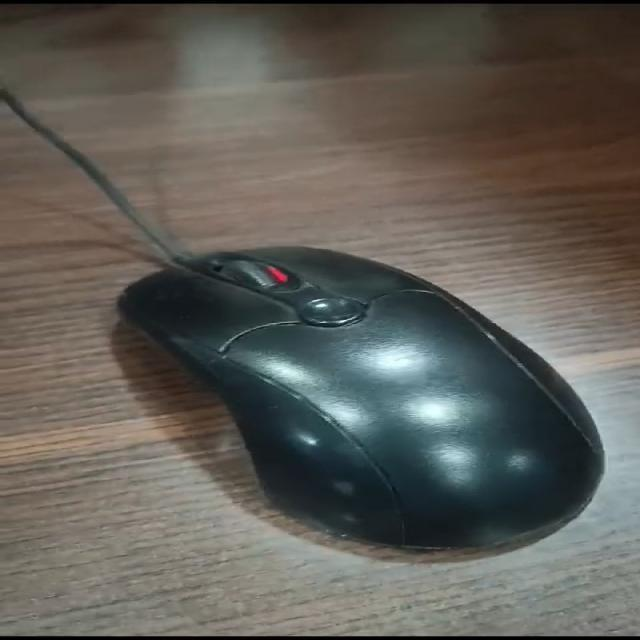Mouse: (89, 226, 630, 566)
